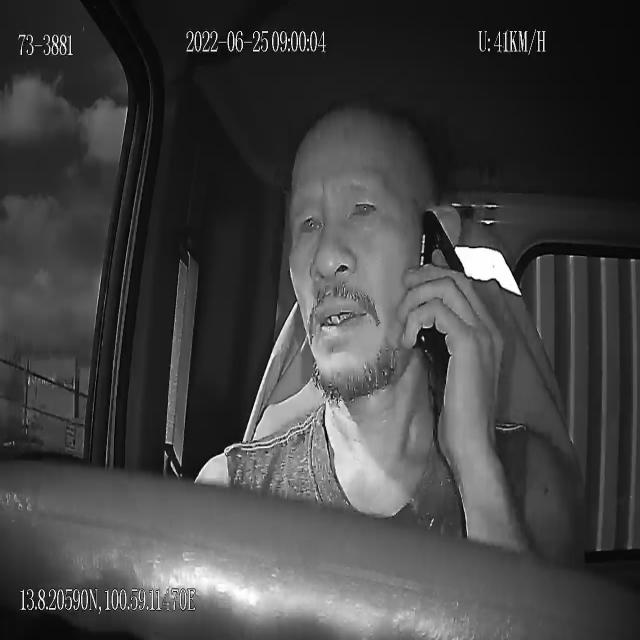phone: (416, 205, 464, 390)
